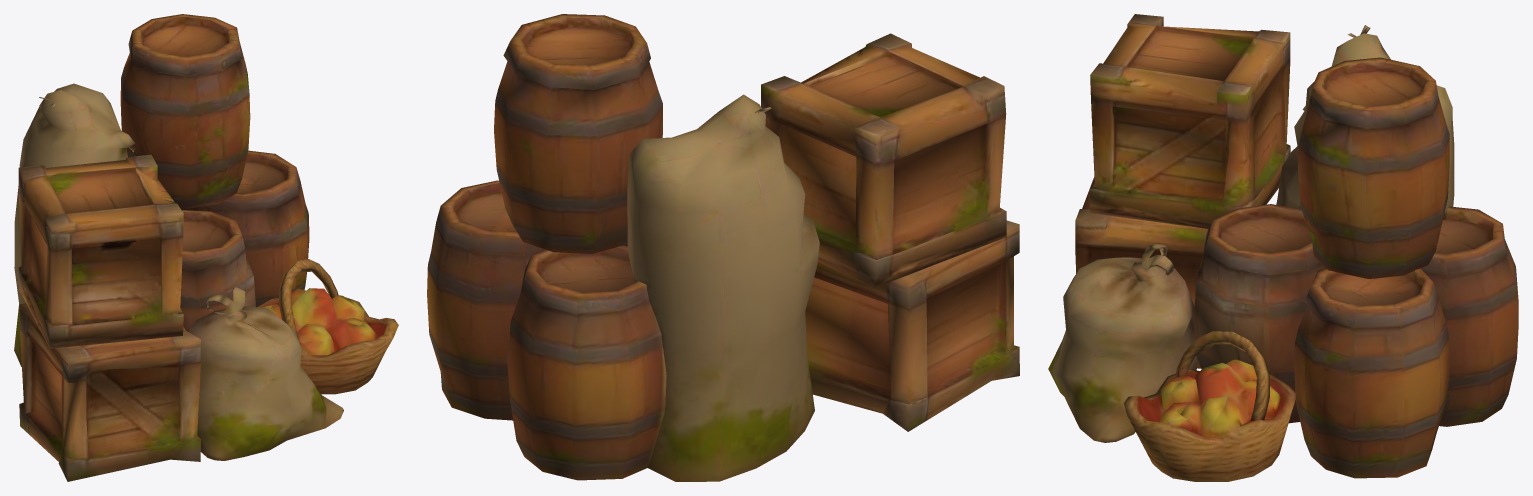
The model's file is prop_clutter_set.glb.
The picture shows the model from 3 angles, left to right: view 1: azimuth 30°, elevation 25°; view 2: azimuth 150°, elevation 25°; view 3: azimuth 270°, elevation 25°; orthographic projection. The views are drawn at different scales.
Visible parts, largest first — view 1: tripo_node_bf4f9bb6-10b5-44ed-a490-37b55ba55692; view 2: tripo_node_bf4f9bb6-10b5-44ed-a490-37b55ba55692; view 3: tripo_node_bf4f9bb6-10b5-44ed-a490-37b55ba55692.
Boxes of the visible parts, x1=… form: tripo_node_bf4f9bb6-10b5-44ed-a490-37b55ba55692: x1=14, y1=14, x2=398, y2=481; tripo_node_bf4f9bb6-10b5-44ed-a490-37b55ba55692: x1=427, y1=14, x2=1019, y2=481; tripo_node_bf4f9bb6-10b5-44ed-a490-37b55ba55692: x1=1048, y1=14, x2=1518, y2=481.
Bounding box in the file's own units: 2.03 × 1.6 × 2.01.
1 material, 1 textured.
